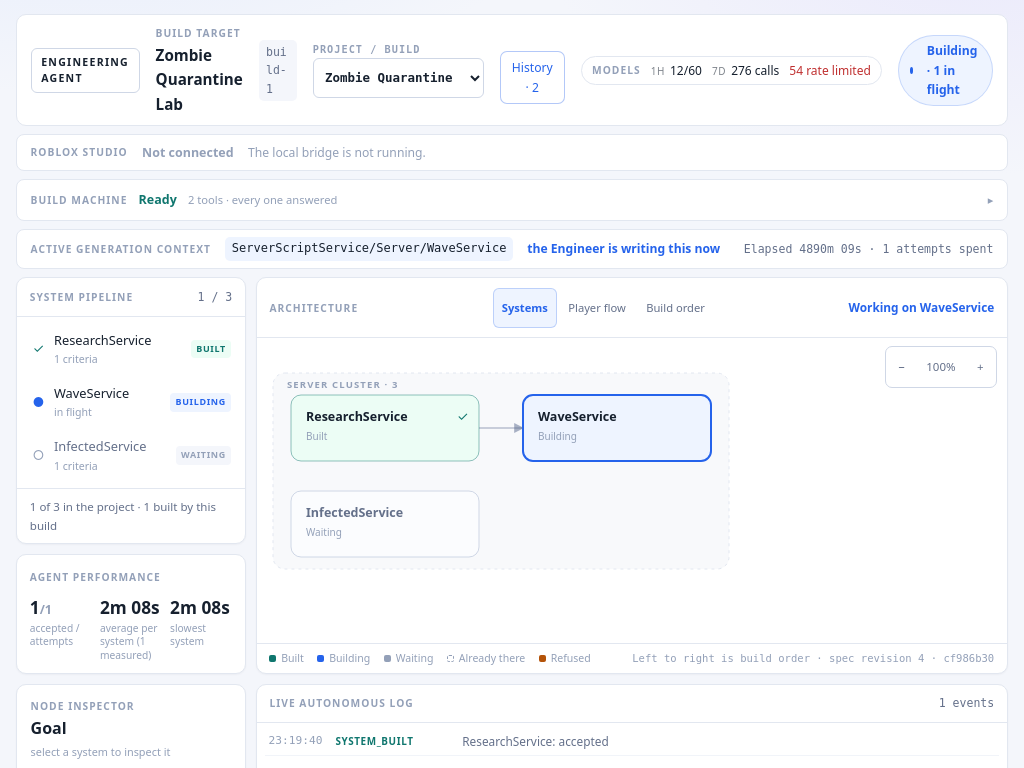
the planning views › says a build has no player path rather than inventing one
The width and height of the screenshot is (1024, 768).
Expected: the element with test id "architecture-map" is shown, [257,338,1007,673]
Click the tab "Player flow". click: [597, 308]
box: [559,288,635,328]
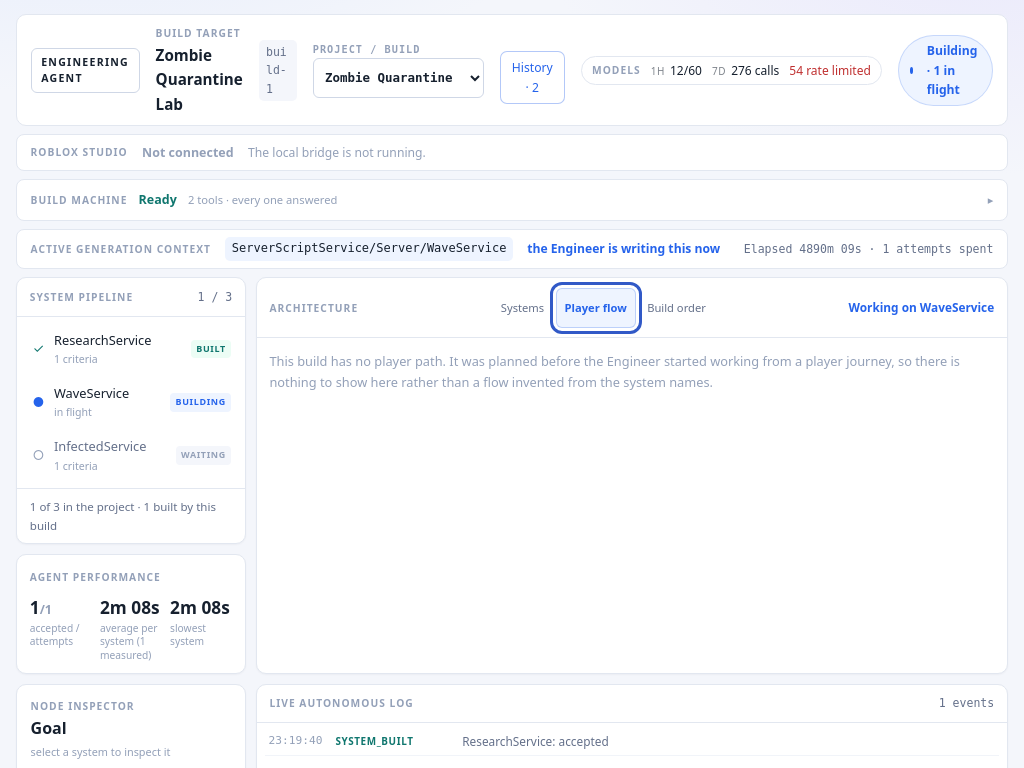
Expected: the text "no player path" is shown, [269,352,960,391]
